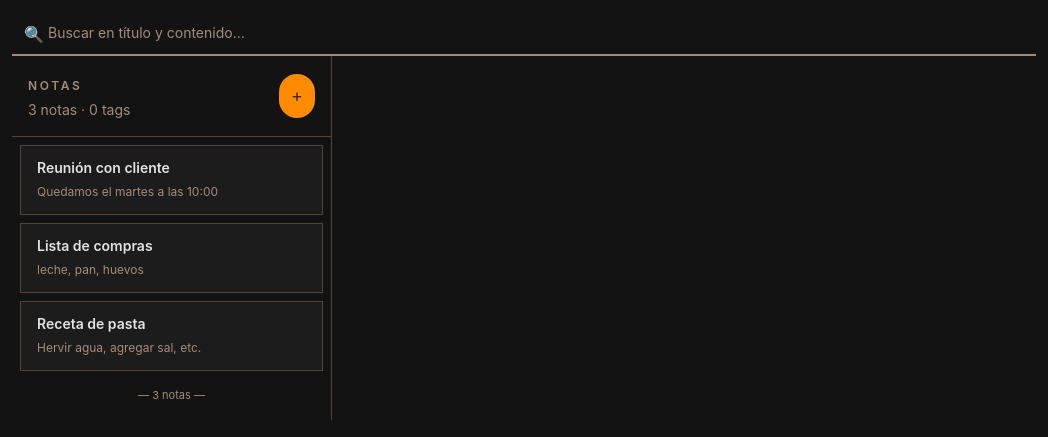
Scenario: MobileSearchPage (PR2 — shell-redesign-v1) › typing in the search bar filters notes by title (case-insensitive)
The image size is (1048, 437).
Type "pasta" into the search field named "buscar notas" at (524, 34), box [12,12,1036,56]
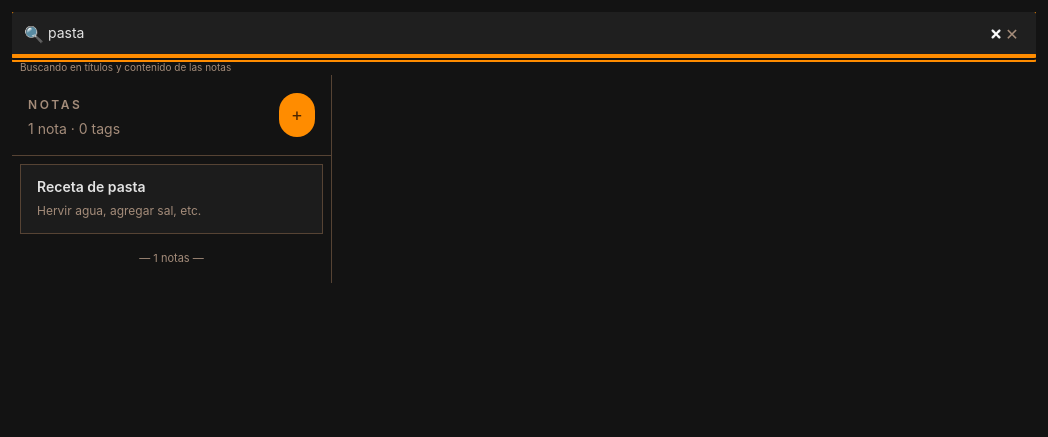
Expected: the text "Receta de pasta" is shown, [37,178,146,195]
Result: the button "Reunión con cliente" is gone
Result: the button "Lista de compras" is gone
